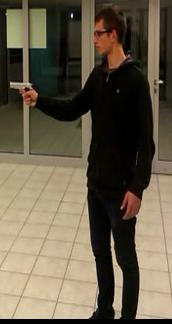pistol: (8, 79, 34, 107)
